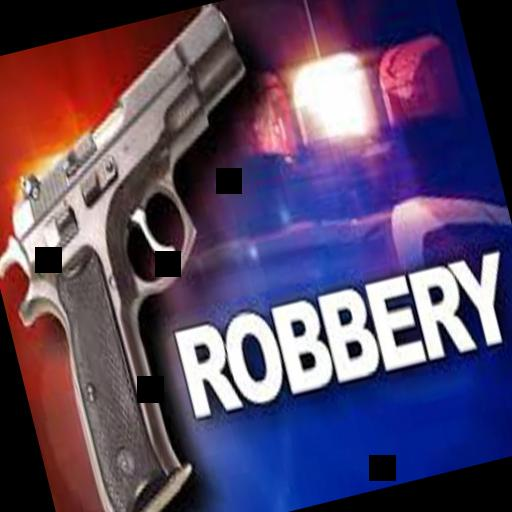Handgun: (0, 2, 343, 512)
